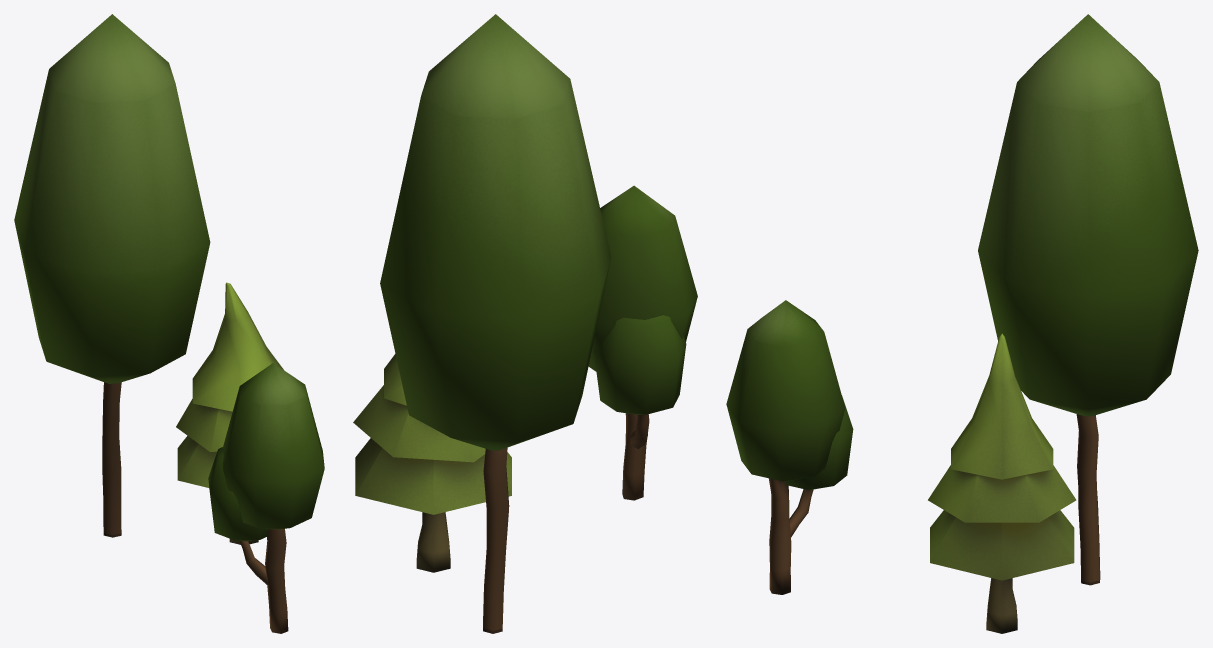
Rendered from three_tree_03.fbx.
3 renders of one model, left to right at view 1: azimuth 30°, elevation 25°; view 2: azimuth 150°, elevation 25°; view 3: azimuth 270°, elevation 25°, orthographic. The views are drawn at different scales.
Parts seen in each view (by area): view 1: three_tree03; view 2: three_tree03; view 3: three_tree03.
Boxes of the visible parts, bbox=[...] form: three_tree03: bbox=[14, 14, 324, 633]; three_tree03: bbox=[353, 14, 697, 633]; three_tree03: bbox=[726, 14, 1198, 633].
Bounding box in the file's own units: 415 × 632 × 837.
2 materials, 2 textured.
